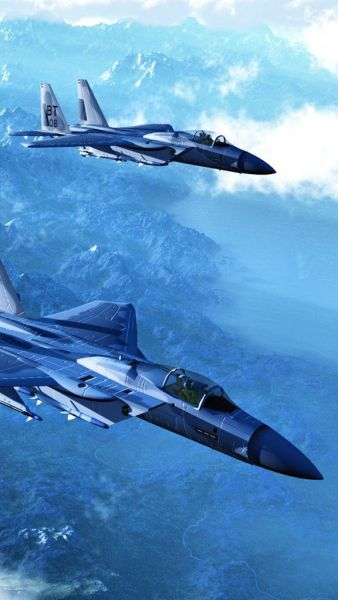airplane: (1, 255, 327, 486), (5, 72, 281, 184)
